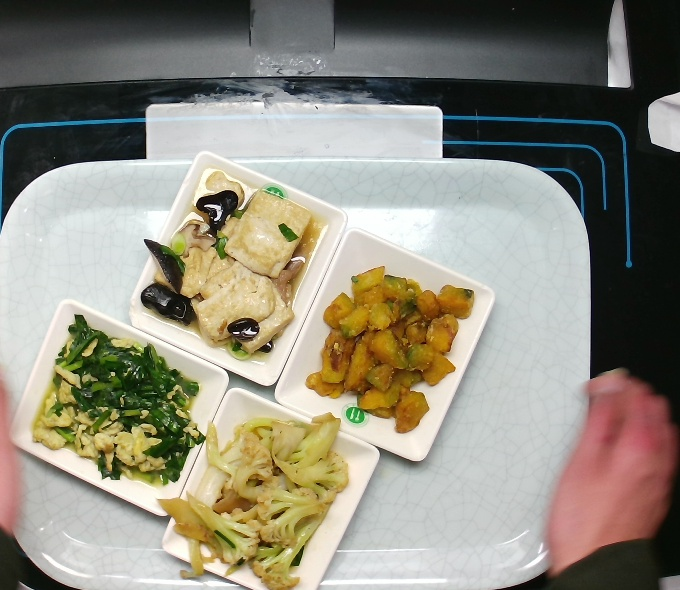wcq-DanHuangNanGua: (299, 254, 478, 438)
wcq-JiaChangDouFu: (122, 163, 319, 362)
wcq-JiuCaiJiDan: (32, 308, 210, 487)
wcq-QiuCai: (158, 405, 360, 590)
